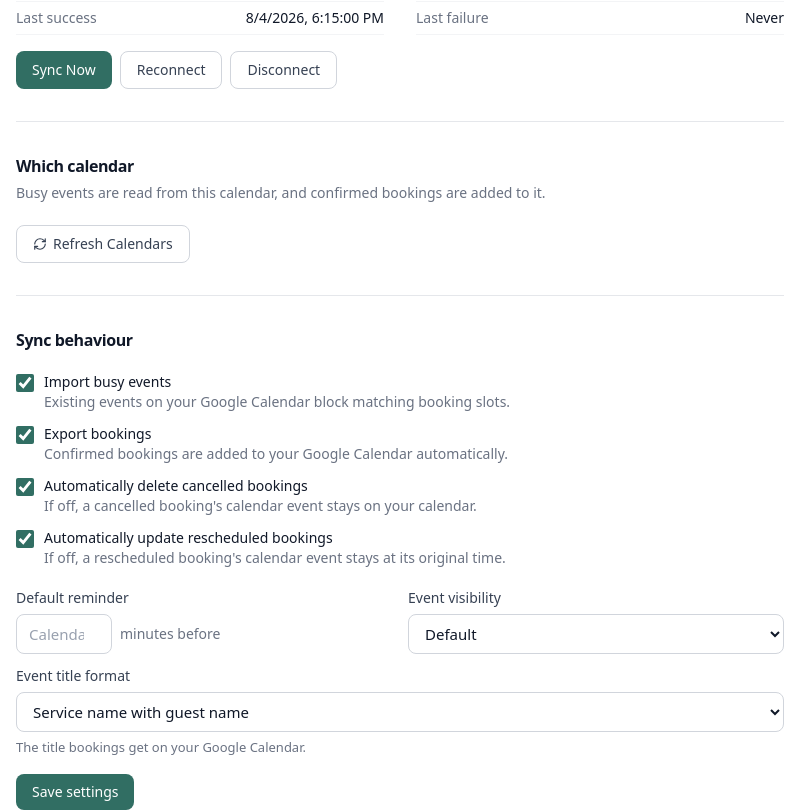
Test: CalendarIntegrationPage › reports a failed settings save
(page scrolled)
Step 1. Click the button "Save settings" → (75, 792), box [16,774,134,809]
(page scrolled)
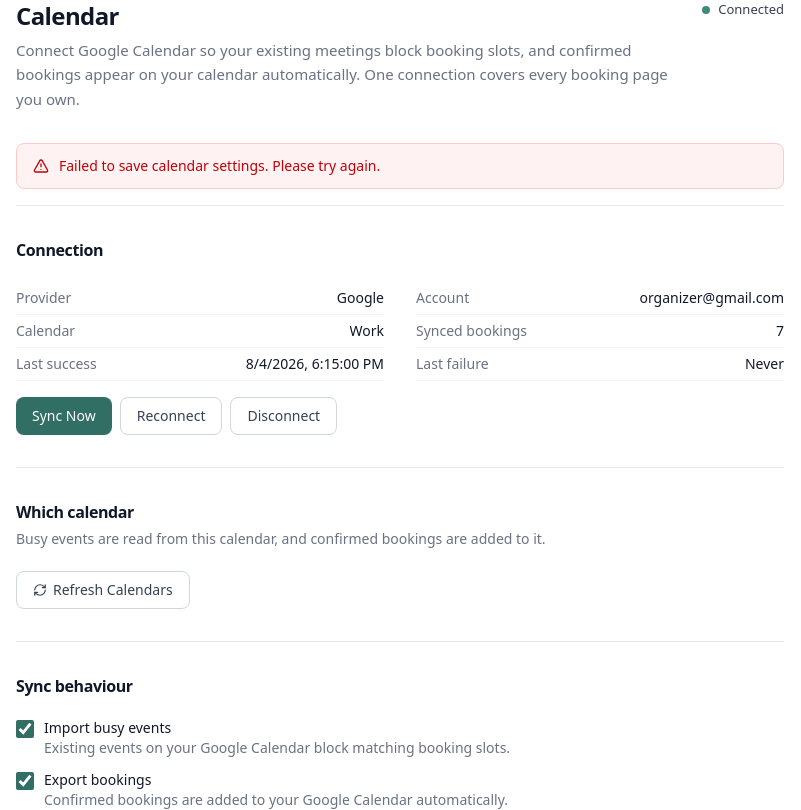
expect the text "Failed to save calendar settings. Please try again." is shown: met, box [59,156,380,176]
